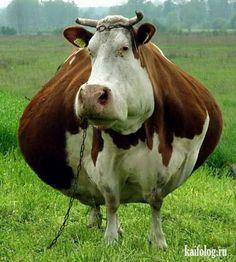cow: (27, 5, 209, 212)
